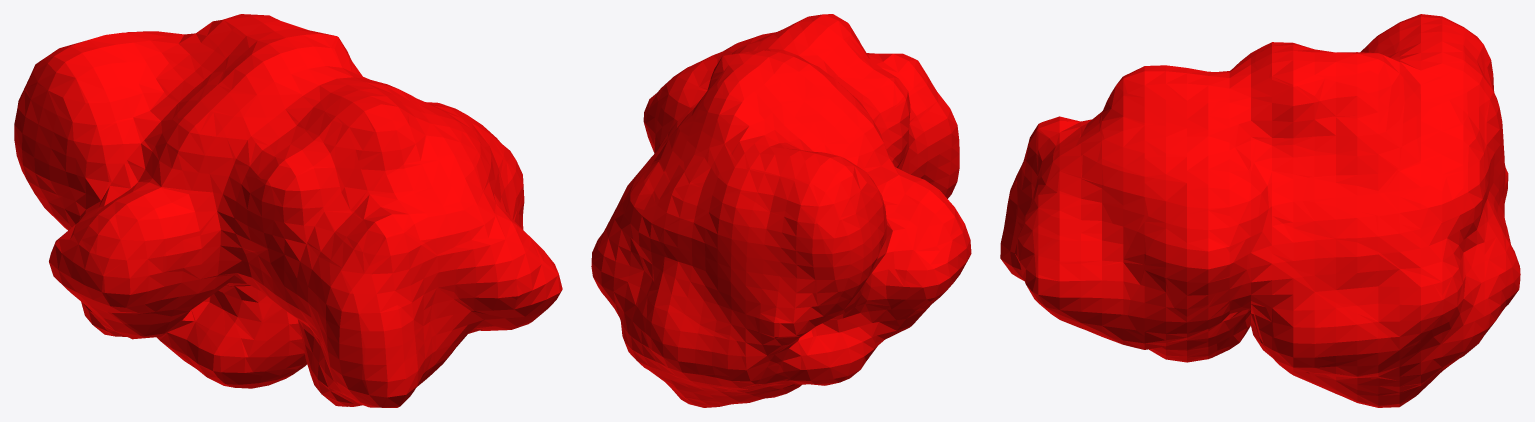
Rendered from ahr_coarse.dae.
The picture shows the model from 3 angles, left to right: view 1: azimuth 30°, elevation 25°; view 2: azimuth 150°, elevation 25°; view 3: azimuth 270°, elevation 25°; orthographic projection. The views are drawn at different scales.
Visible parts, largest first — view 1: ahr; view 2: ahr; view 3: ahr.
Part boxes in pixels (x1,y1,x2,y2): ahr: [14, 14, 562, 407]; ahr: [591, 14, 971, 407]; ahr: [1000, 14, 1520, 407].
Bounding box in the file's own units: 55.93 × 47.91 × 66.09.
